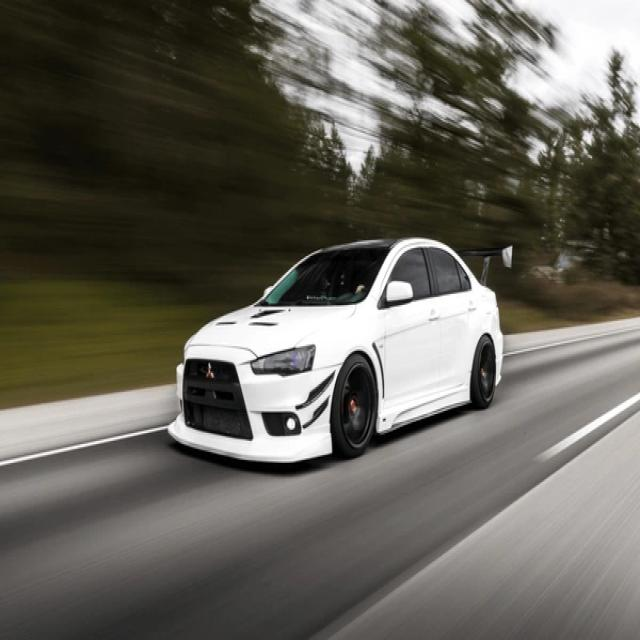mitsubishi: (202, 358, 220, 381)
